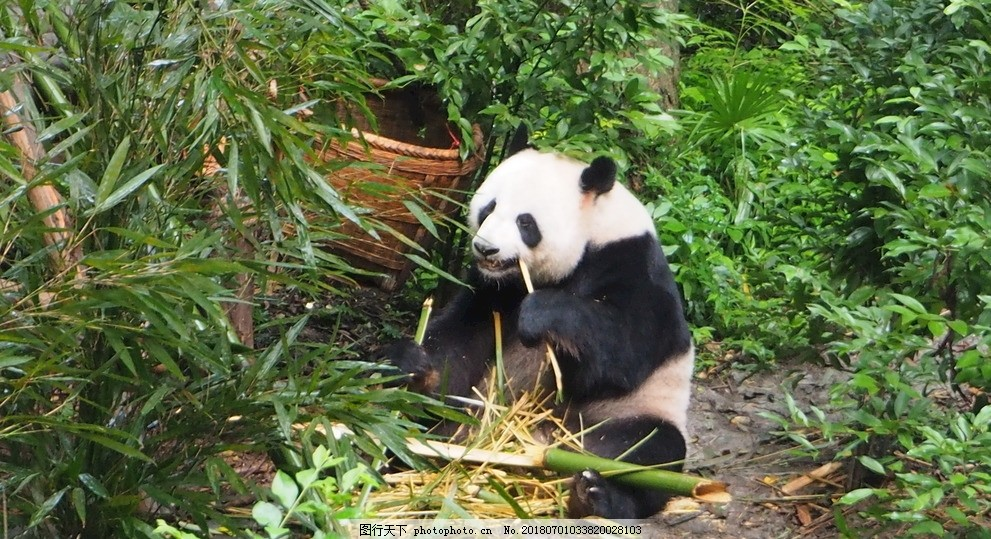panda: (419, 146, 705, 514)
